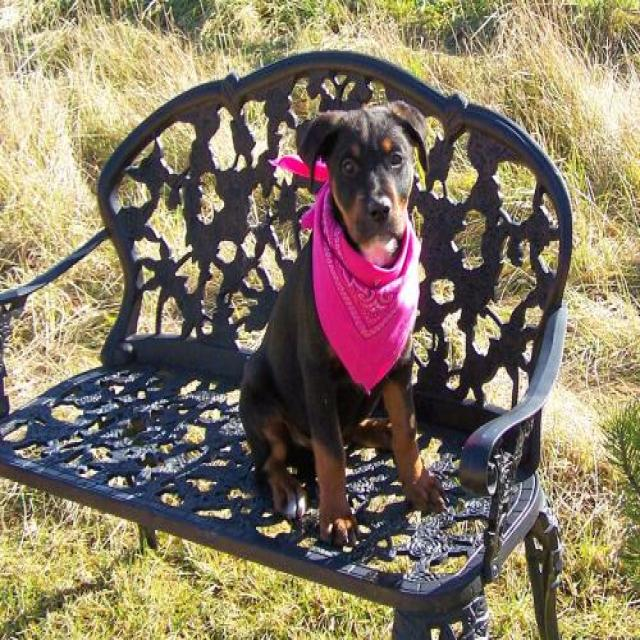Dogs: (237, 97, 448, 549)
